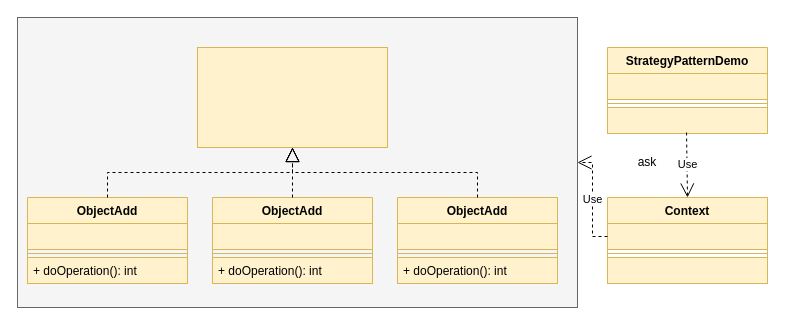
The diagram is 785 pixels wide and 325 high, and some of its shapes have lost their labels. Each missing label, with the centre of its shape:
"+ executeStrategy(): int" goes at point 687,270.
"+ main(): void" goes at point 687,120.
"- strategy: Strategy" goes at point 687,236.
"<<Interface>> Strategy + doOperation(): int" goes at point 292,97.
